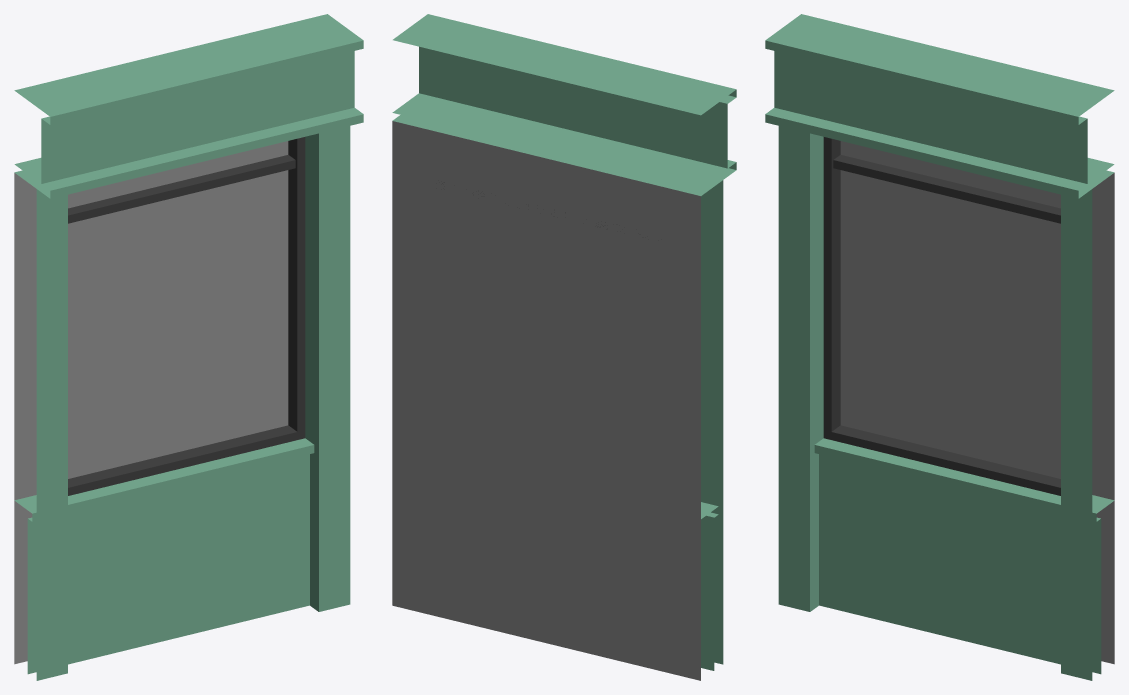
The model's file is object_B2_Ground_floor.glb.
The picture shows the model from 3 angles, left to right: view 1: azimuth 30°, elevation 25°; view 2: azimuth 150°, elevation 25°; view 3: azimuth 330°, elevation 25°; orthographic projection.
Parts seen in each view (by area): view 1: B2 Ground floor; view 2: B2 Ground floor; view 3: B2 Ground floor.
Part boxes in pixels (x1,y1,x2,y2): B2 Ground floor: (14,14,363,680); B2 Ground floor: (392,14,736,680); B2 Ground floor: (765,14,1114,680).
Bounding box in the file's own units: 2 × 3.5 × 0.4.
